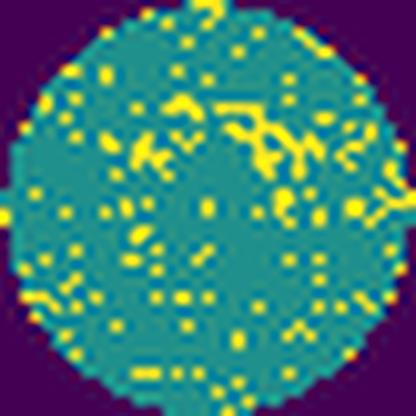Loc: (213, 98, 322, 180), (130, 132, 171, 176), (161, 89, 201, 118)
